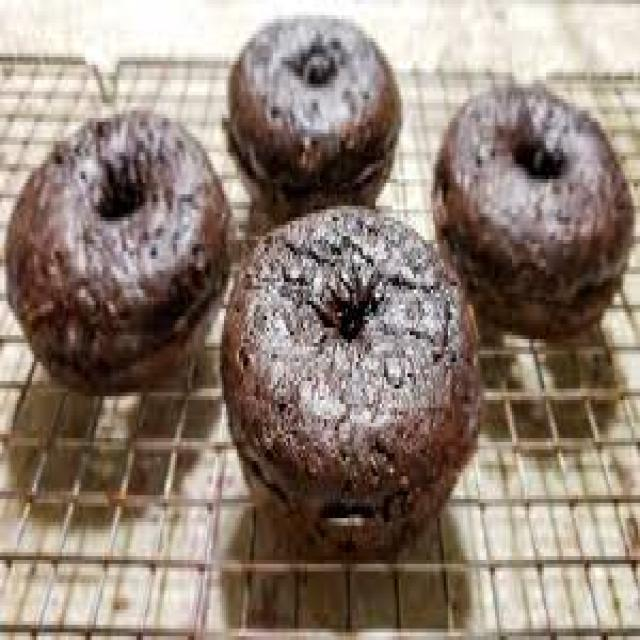Donut: (250, 222, 473, 520), (12, 104, 240, 372)
